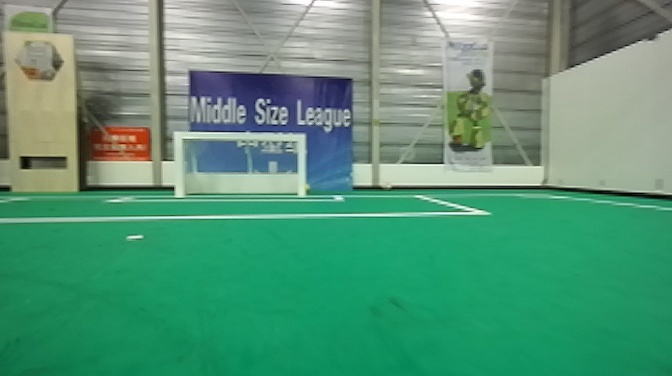goalpost: (292, 125, 316, 206), (169, 128, 189, 204)
